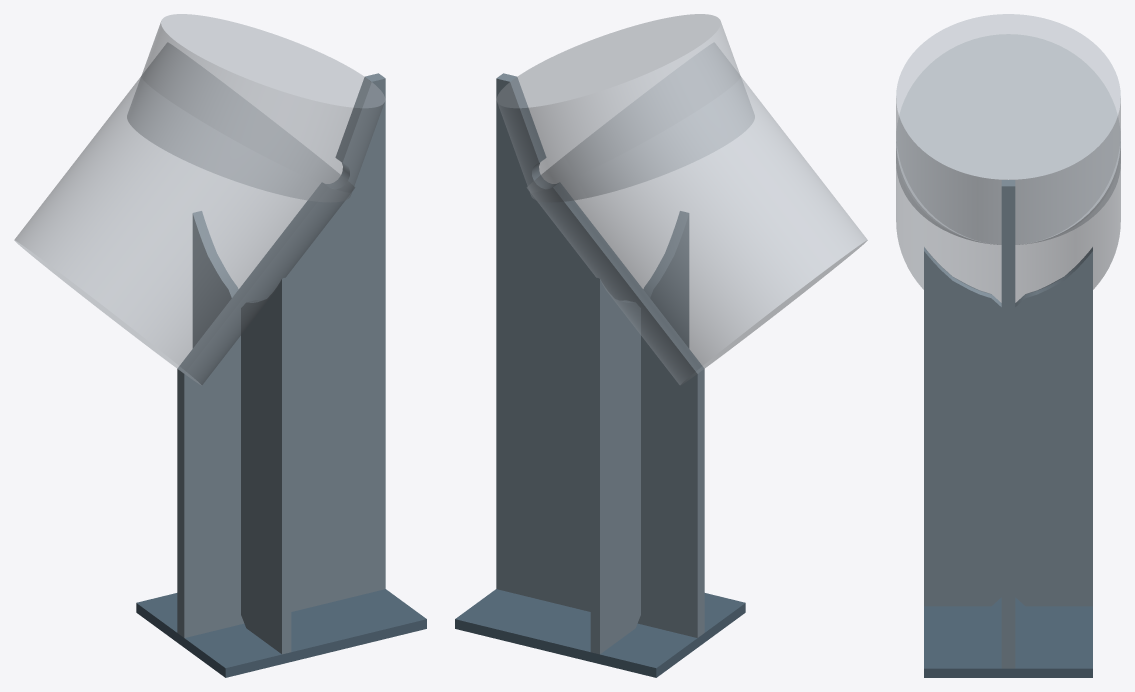
Rendered from TS-631.000-01-opora-dn133-R320.glb.
3 renders of one model, left to right at view 1: azimuth 30°, elevation 25°; view 2: azimuth 150°, elevation 25°; view 3: azimuth 270°, elevation 25°, orthographic. The views are drawn at different scales.
Parts seen in each view (by area): view 1: kosynka_1, truba_1, truba_0, rebro_3, osnovanie_0, rebro_2; view 2: kosynka_1, truba_1, truba_0, rebro_2, osnovanie_0, rebro_3; view 3: truba_1, truba_0, rebro_2, rebro_3, osnovanie_0, kosynka_1.
Part boxes in pixels (left/top/right/bottom): kosynka_1: left=177, top=73, right=385, bottom=637; truba_1: left=14, top=43, right=354, bottom=385; truba_0: left=127, top=14, right=385, bottom=202; rebro_3: left=241, top=276, right=291, bottom=654; osnovanie_0: left=136, top=589, right=426, bottom=677; rebro_2: left=192, top=211, right=238, bottom=347; kosynka_1: left=496, top=73, right=704, bottom=637; truba_1: left=527, top=43, right=867, bottom=385; truba_0: left=496, top=14, right=754, bottom=202; rebro_2: left=590, top=276, right=640, bottom=654; osnovanie_0: left=455, top=589, right=745, bottom=677; rebro_3: left=643, top=211, right=689, bottom=347; truba_1: left=896, top=34, right=1120, bottom=302; truba_0: left=896, top=14, right=1120, bottom=244; rebro_2: left=1015, top=247, right=1092, bottom=606; rebro_3: left=924, top=247, right=1001, bottom=606; osnovanie_0: left=924, top=597, right=1092, bottom=677; kosynka_1: left=1001, top=180, right=1015, bottom=668.
Bounding box in the file's own units: 224 × 372 × 133.
